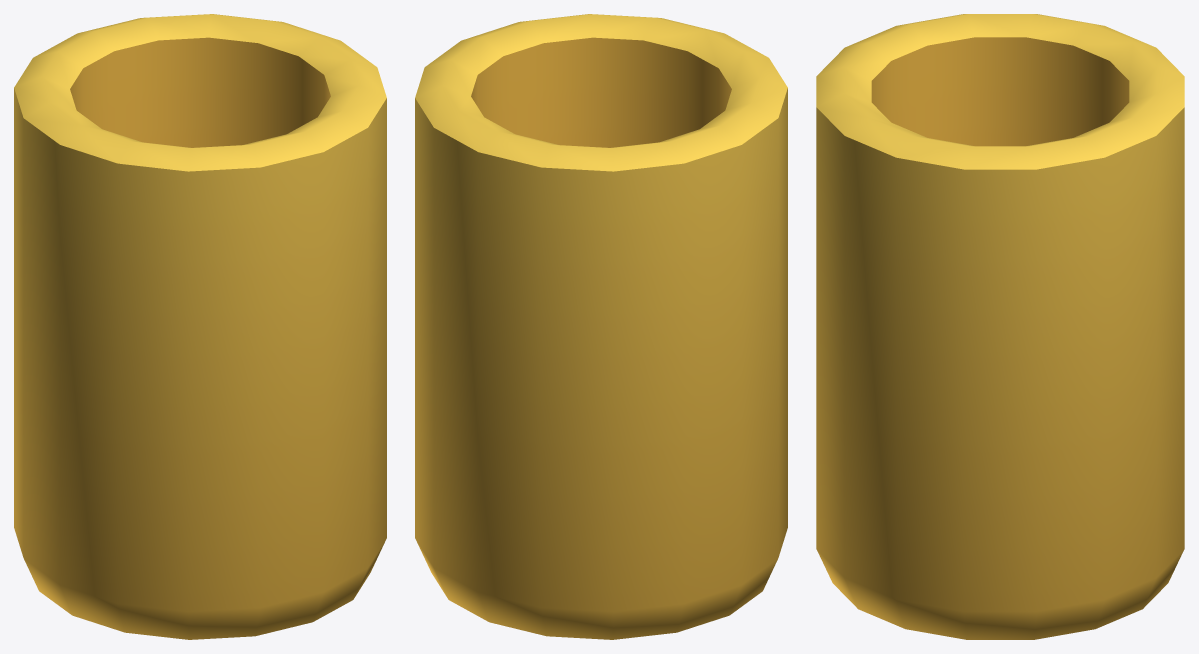
File: Toothbrush Cup.glb
The picture shows the model from 3 angles, left to right: view 1: azimuth 30°, elevation 25°; view 2: azimuth 150°, elevation 25°; view 3: azimuth 270°, elevation 25°; orthographic projection.
Parts seen in each view (by area): view 1: toothbrush_cup; view 2: toothbrush_cup; view 3: toothbrush_cup.
Part boxes in pixels (x1,y1,x2,y2): toothbrush_cup: [14, 14, 386, 639]; toothbrush_cup: [415, 14, 787, 639]; toothbrush_cup: [816, 14, 1184, 639].
Bounding box in the file's own units: 0.288 × 0.4348 × 0.288.
1 material, 1 textured.
